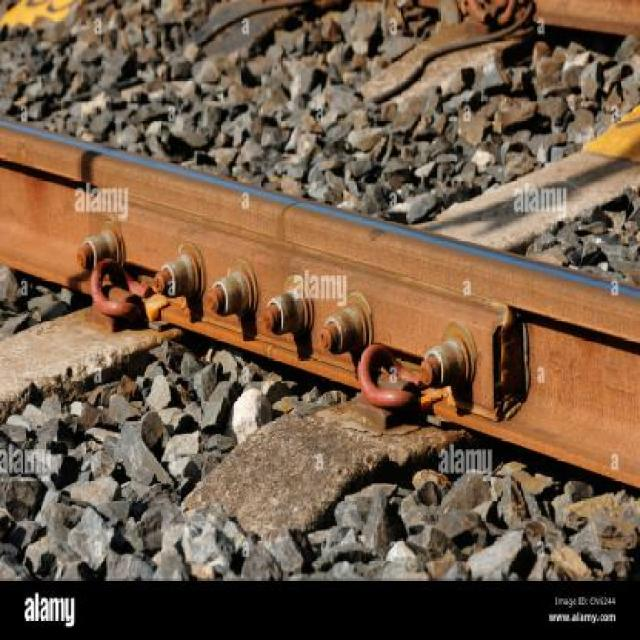non-defective: (0, 74, 640, 566)
